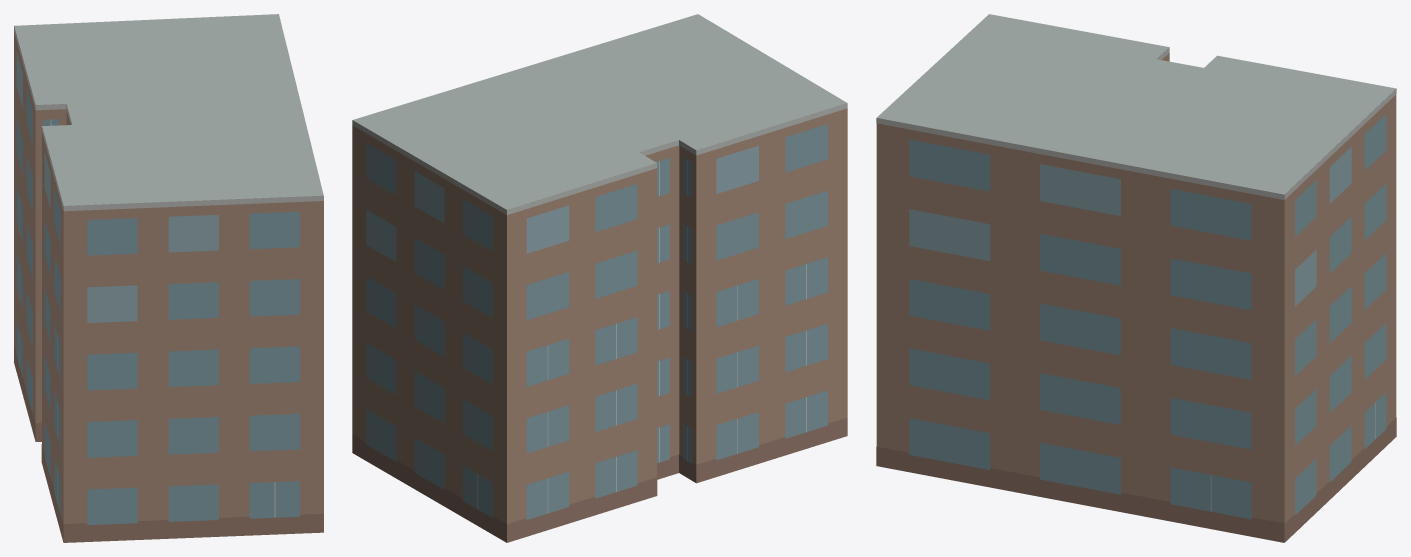
File: survey-upis-32954761.glb
3 views of the same model, side by side, from view 1: azimuth 30°, elevation 25°; view 2: azimuth 150°, elevation 25°; view 3: azimuth 270°, elevation 25° (orthographic). The views are drawn at different scales.
Parts seen in each view (by area): view 1: survey-upis-32954761.tmp; view 2: survey-upis-32954761.tmp; view 3: survey-upis-32954761.tmp.
Boxes of the visible parts, box(x1,y1,x2,y2) form: survey-upis-32954761.tmp: box(14, 14, 323, 542); survey-upis-32954761.tmp: box(352, 14, 847, 542); survey-upis-32954761.tmp: box(876, 14, 1396, 542).
Bounding box in the file's own units: 17.31 × 15.55 × 21.05.
